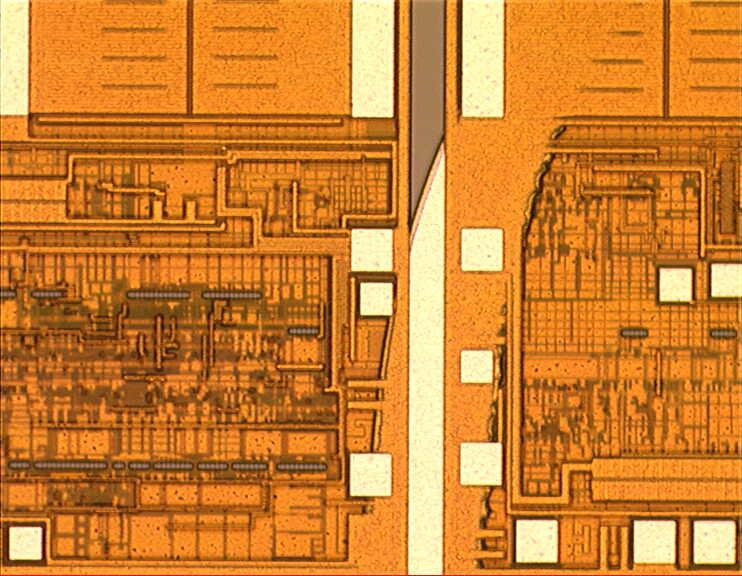COATING BAD: (359, 1, 628, 576)
